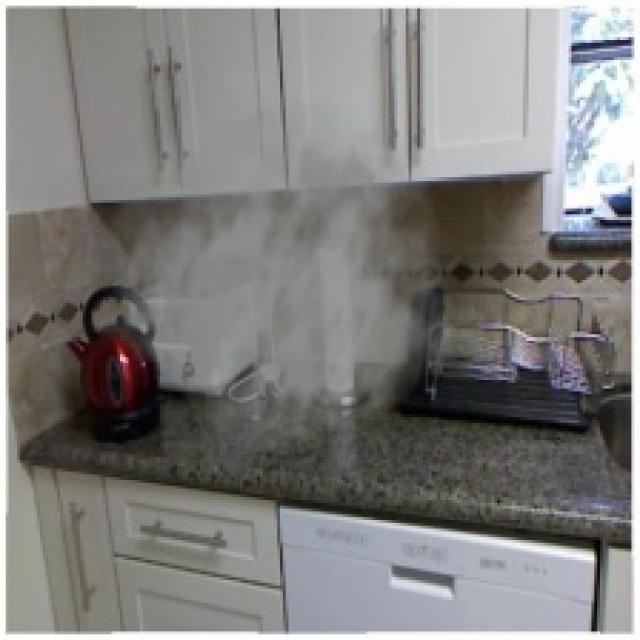smoke: (86, 60, 457, 457)
